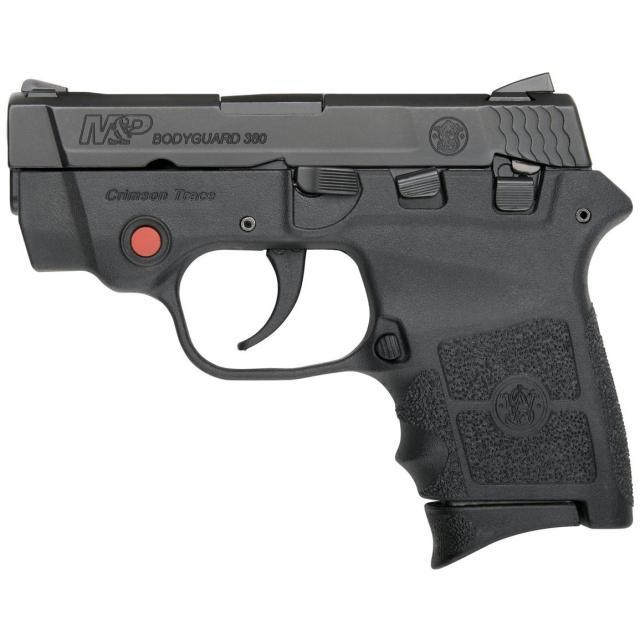Pistol: (2, 58, 640, 579)
